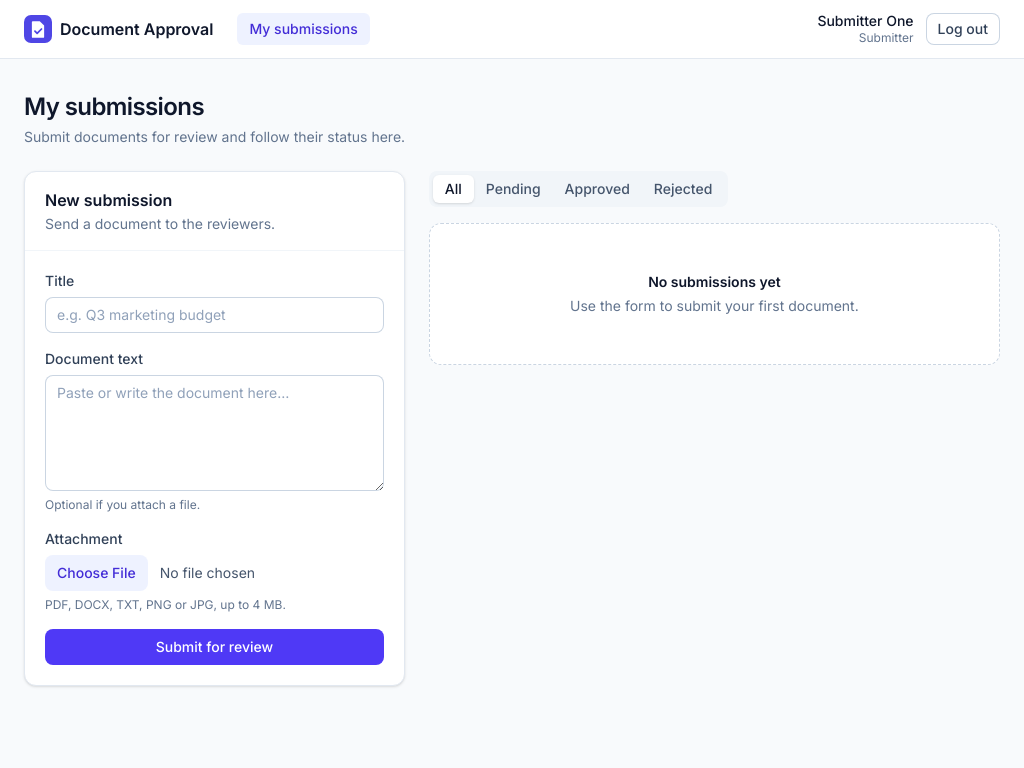
route protection and sessions › logs out and clears the saved session
The image size is (1024, 768).
Click the button "Log out". click: {"x": 963, "y": 29}
box: [926, 13, 1000, 45]
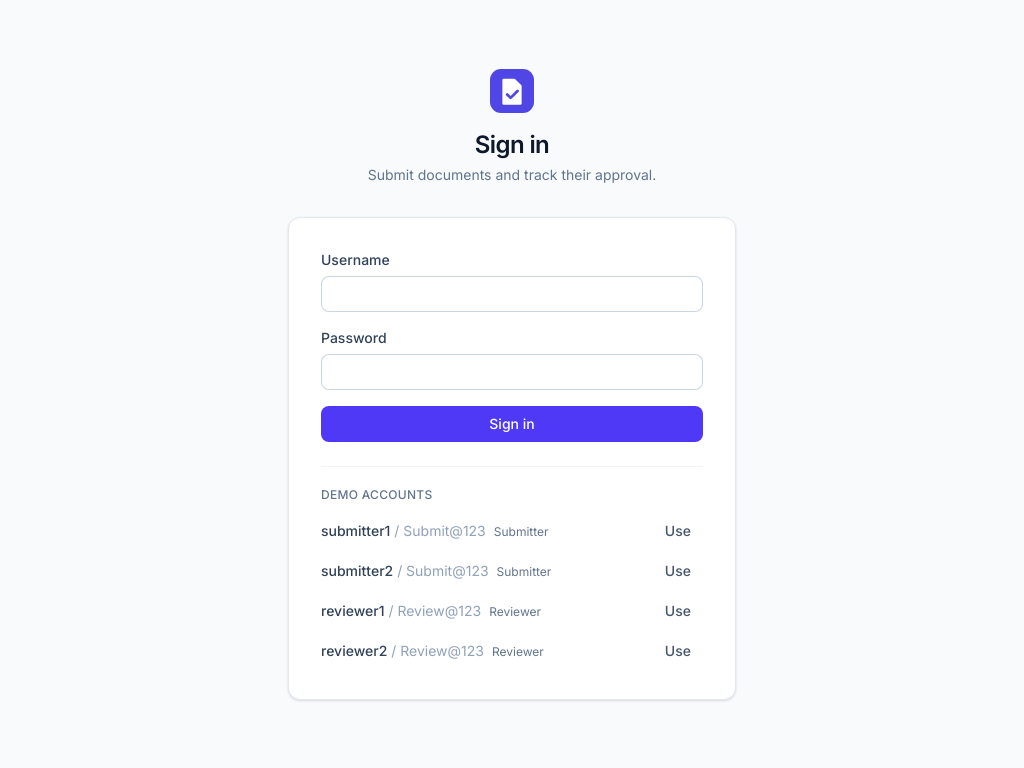
Expected: the heading "Sign in" is shown, [475, 130, 549, 158]
